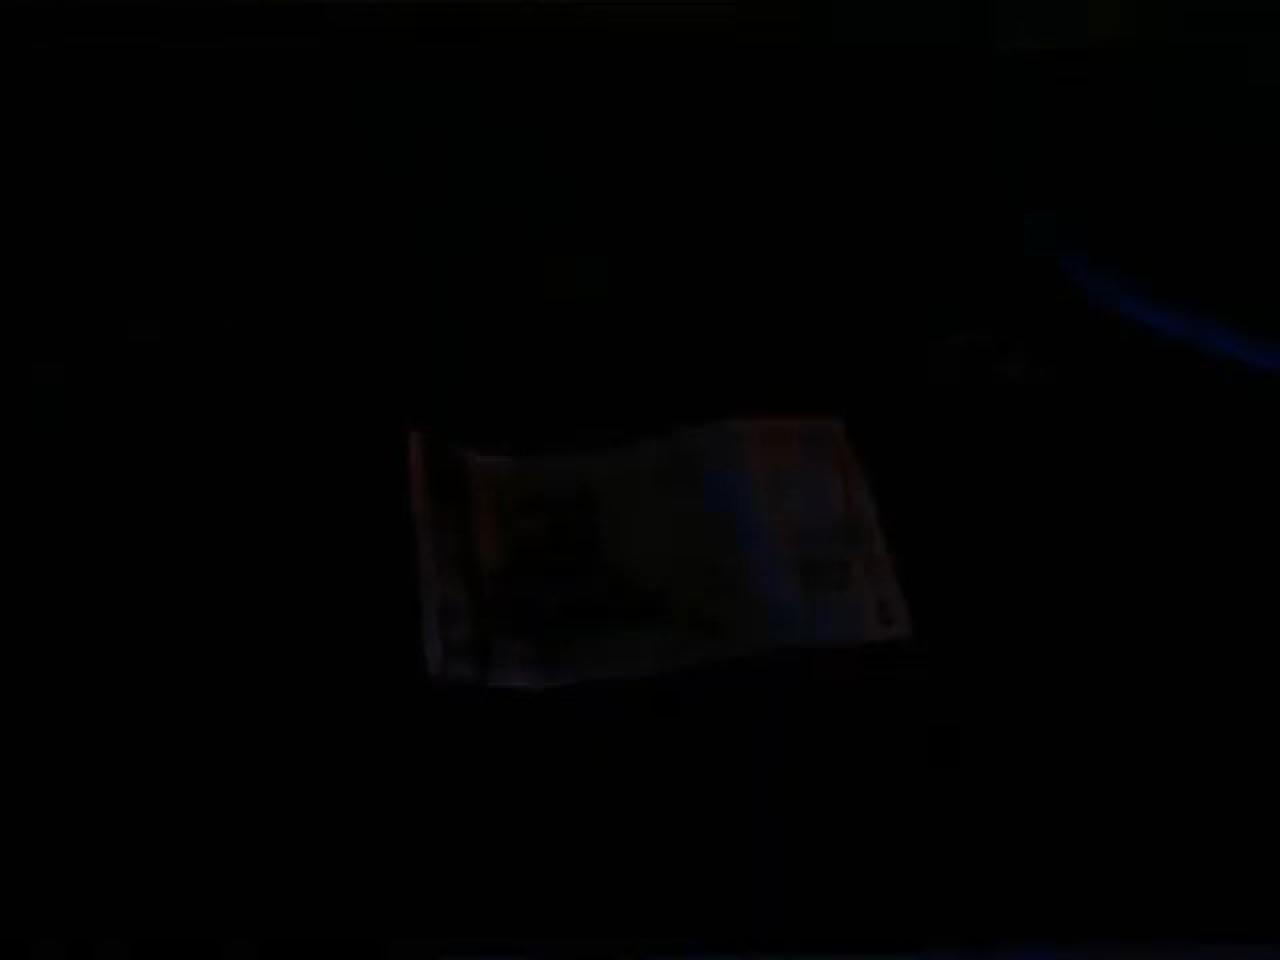10leva: (398, 411, 922, 701)
